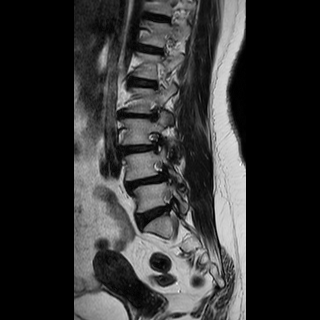RFS2: (142, 126, 170, 156)
